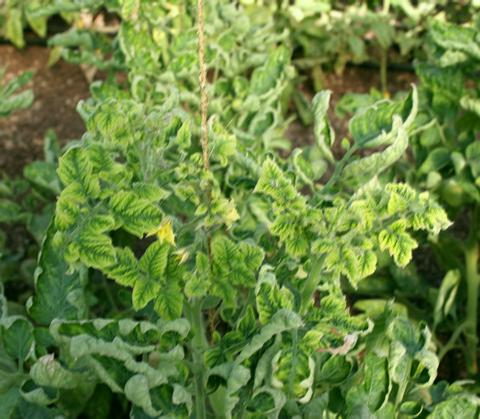Tomato leaf yellow virus: (379, 180, 449, 232), (41, 147, 98, 206), (100, 187, 164, 238), (243, 161, 304, 210), (336, 223, 376, 291), (72, 229, 124, 273), (374, 218, 419, 268), (220, 243, 264, 287), (137, 231, 167, 289), (152, 274, 181, 324), (211, 229, 241, 276), (253, 280, 289, 318), (129, 279, 158, 320), (271, 208, 296, 242)
